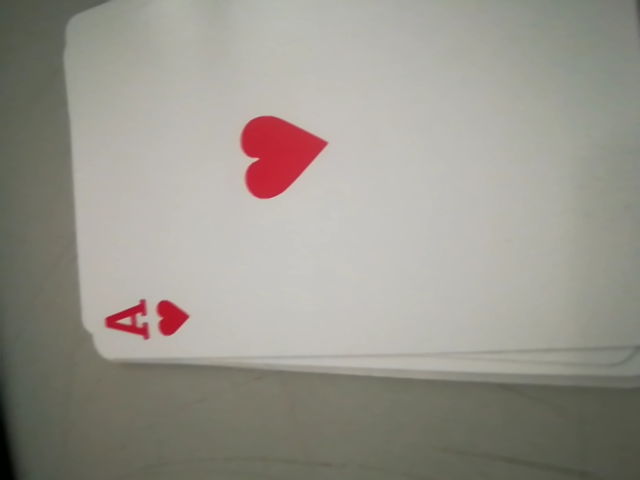hx a: (97, 287, 192, 351)
